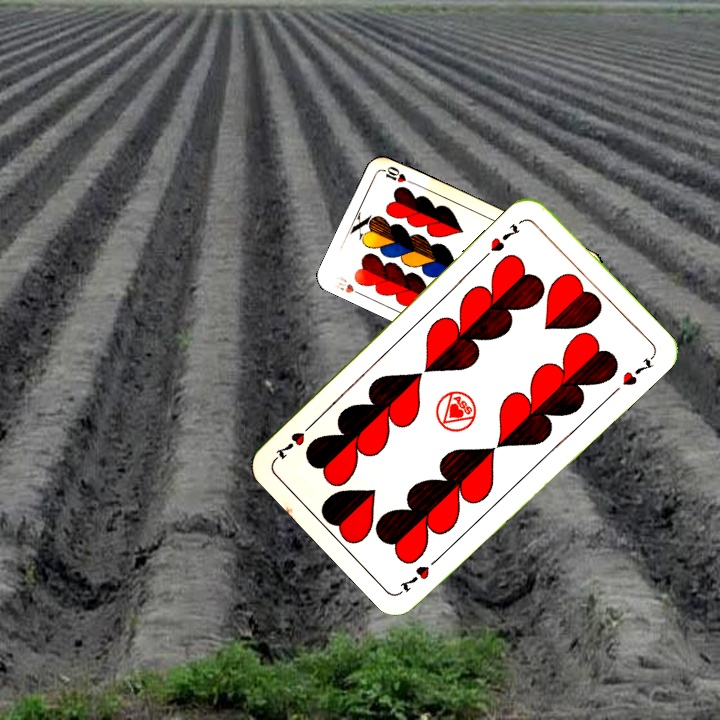H10: (331, 272, 367, 299)
H7: (395, 551, 445, 595), (486, 219, 523, 255)
